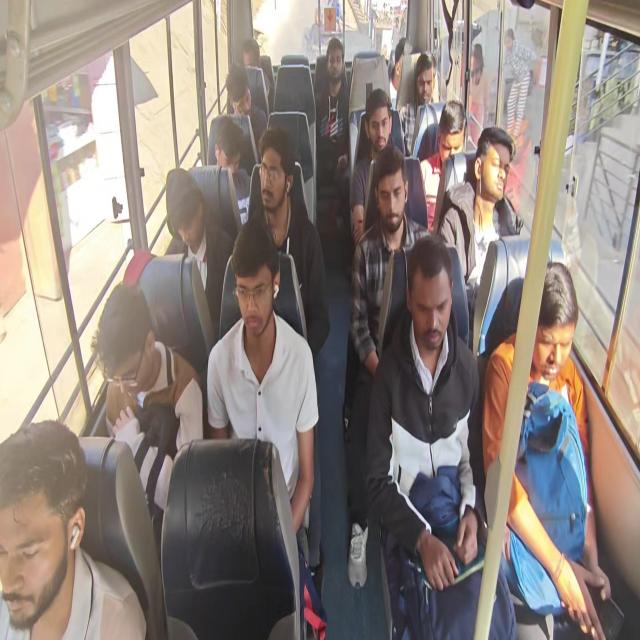person: (88, 19, 610, 637), (364, 234, 518, 638), (482, 260, 610, 638), (206, 218, 320, 572), (343, 144, 433, 588), (0, 419, 147, 639), (90, 281, 204, 554), (246, 127, 330, 356), (437, 126, 522, 347), (165, 167, 234, 342), (314, 37, 351, 261), (350, 88, 396, 246), (419, 99, 466, 232), (212, 115, 251, 224), (500, 27, 536, 141), (399, 52, 437, 156), (225, 64, 267, 152), (466, 43, 489, 148), (242, 37, 274, 109)
